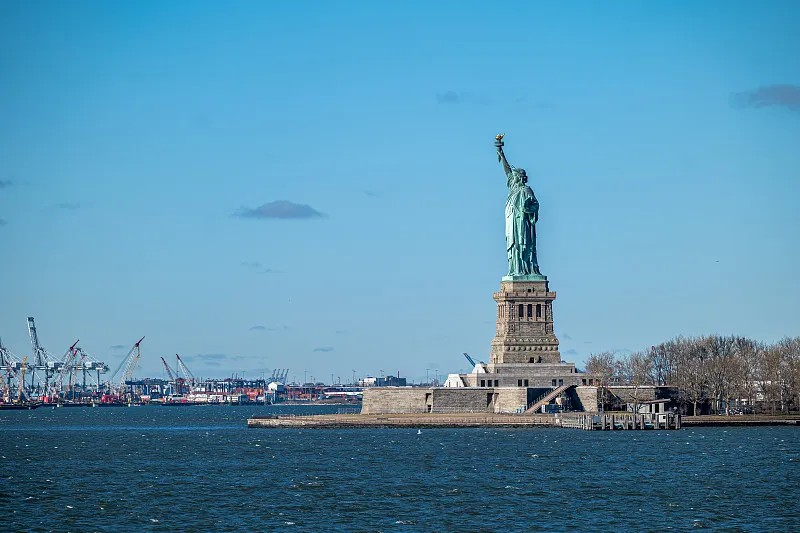SL: (488, 130, 557, 352)
